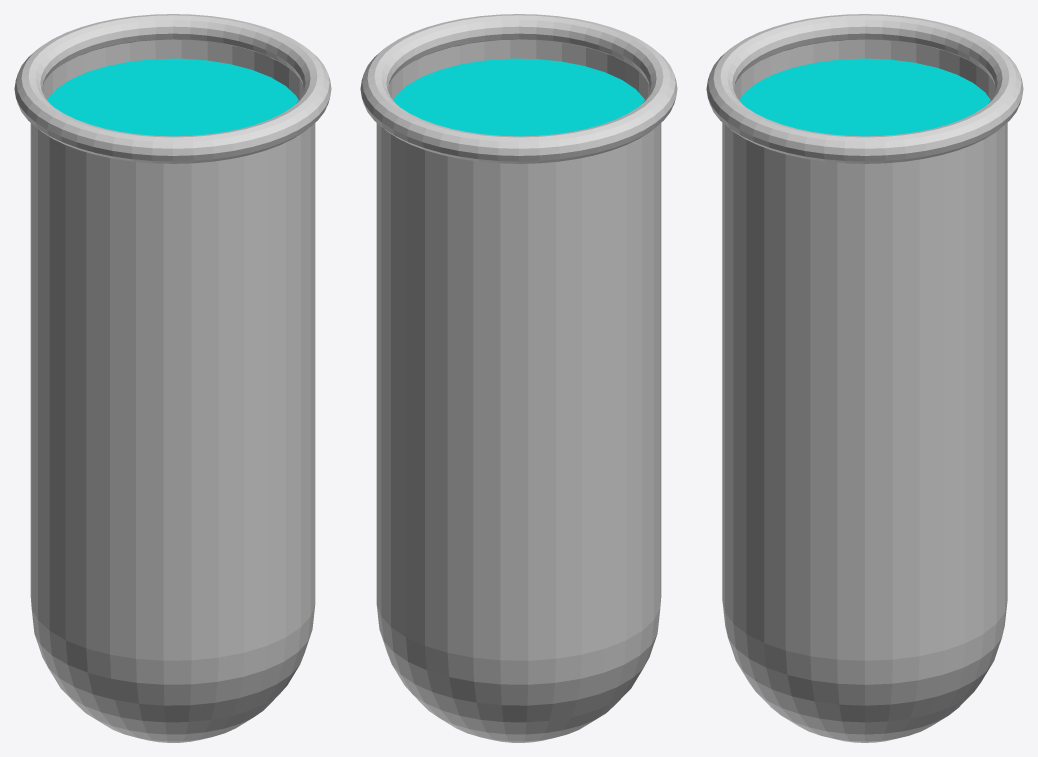
The model's file is thin flask.fbx.
The picture shows the model from 3 angles, left to right: view 1: azimuth 30°, elevation 25°; view 2: azimuth 150°, elevation 25°; view 3: azimuth 270°, elevation 25°; orthographic projection.
Parts seen in each view (by area): view 1: Cylinder, Cylinder.001; view 2: Cylinder, Cylinder.001; view 3: Cylinder, Cylinder.001.
Boxes of the visible parts, x1,y1,x2,y2 form: Cylinder: (14,14,331,742); Cylinder.001: (47,58,298,136); Cylinder: (360,14,677,742); Cylinder.001: (393,58,644,136); Cylinder: (706,14,1023,742); Cylinder.001: (739,58,990,136).
Bounding box in the file's own units: 222 × 506 × 222.
